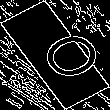O_SW: (15, 23, 95, 87)
